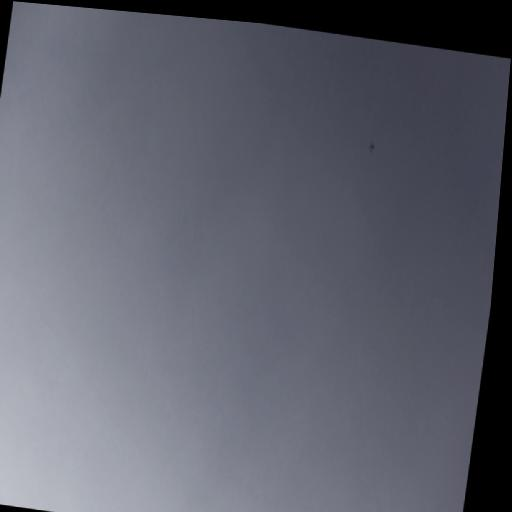drones: (366, 140, 376, 156)
